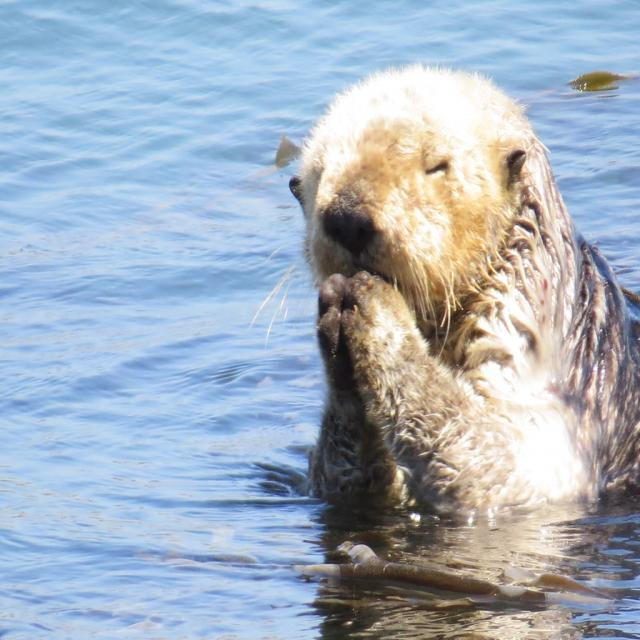otter: (294, 65, 629, 508)
